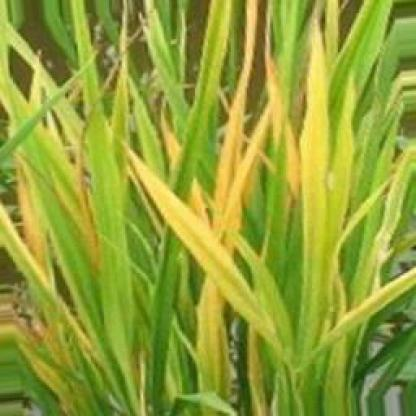Tungro: (117, 134, 299, 352), (183, 3, 277, 393), (295, 14, 342, 409), (3, 134, 76, 316), (61, 139, 120, 274), (351, 267, 416, 318)
